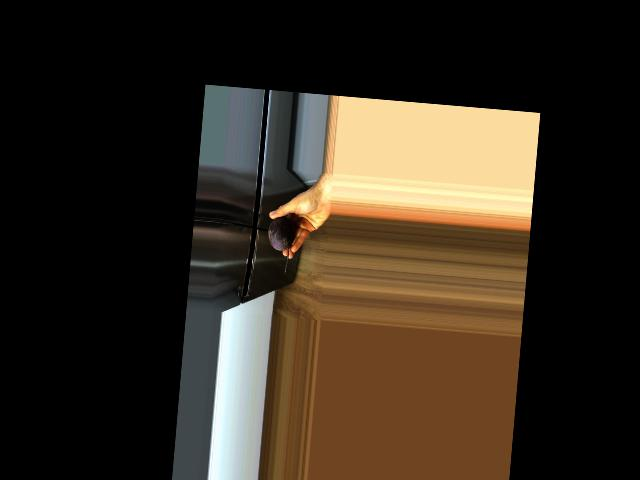beet: (264, 215, 295, 274)
